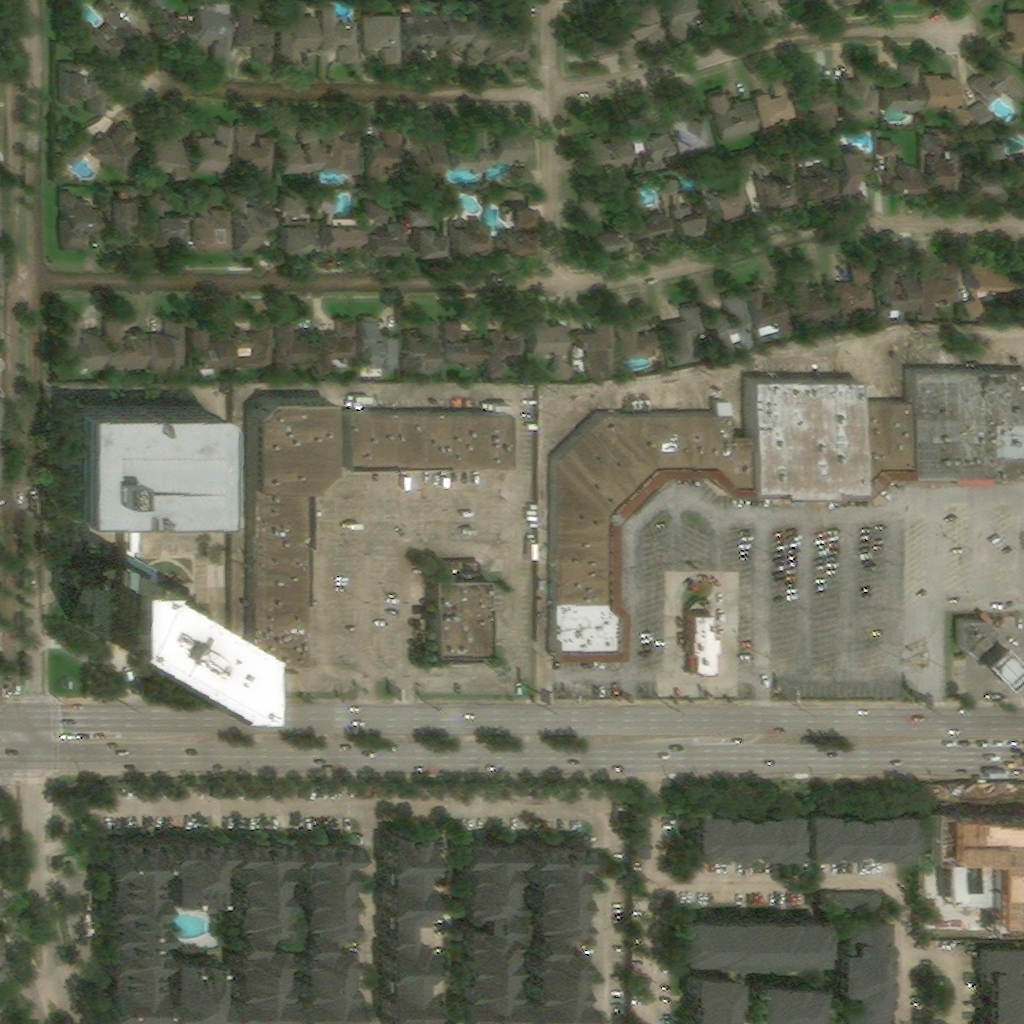minor_damage: (322, 6, 362, 65), (238, 5, 274, 65), (364, 16, 402, 70), (323, 130, 364, 175), (285, 129, 323, 174), (288, 16, 320, 55), (368, 140, 393, 189), (366, 221, 400, 253), (281, 222, 315, 253), (414, 225, 444, 254)
no_damage: (551, 368, 1022, 658), (251, 392, 331, 672), (61, 389, 217, 523), (64, 520, 212, 650), (97, 828, 161, 1018), (523, 829, 587, 1017), (294, 827, 356, 1018), (224, 833, 287, 1018), (456, 833, 518, 1016), (339, 408, 515, 471), (378, 822, 427, 1023), (679, 909, 824, 963), (52, 98, 141, 181), (801, 801, 915, 859), (685, 801, 797, 860), (833, 917, 892, 1023), (429, 562, 491, 653), (166, 830, 225, 906), (163, 949, 223, 1021), (975, 943, 1022, 1023), (971, 57, 1022, 129), (752, 972, 819, 1023), (707, 293, 758, 359), (61, 63, 116, 118), (666, 101, 715, 160), (755, 77, 800, 141), (709, 91, 760, 147), (784, 273, 835, 327), (836, 264, 883, 322), (531, 321, 574, 384), (687, 968, 736, 1023), (923, 76, 971, 131), (192, 2, 235, 63), (86, 2, 135, 54), (576, 319, 617, 380), (668, 304, 707, 368), (318, 321, 359, 381), (618, 314, 666, 365), (60, 192, 97, 257), (881, 256, 919, 319), (194, 124, 236, 180), (922, 133, 963, 189), (64, 319, 105, 375), (495, 128, 533, 187), (193, 196, 234, 250), (404, 321, 445, 375), (884, 60, 923, 115), (957, 616, 1006, 659), (627, 112, 666, 166), (685, 610, 715, 678), (982, 639, 1022, 690), (844, 67, 883, 119), (752, 294, 796, 340), (236, 319, 273, 373), (276, 317, 311, 374), (193, 321, 231, 373), (107, 321, 149, 368), (582, 13, 622, 62), (623, 0, 666, 45), (149, 320, 185, 373), (972, 142, 1011, 190), (924, 276, 963, 324), (237, 208, 276, 255), (451, 128, 489, 176), (802, 83, 842, 128), (588, 128, 627, 172), (490, 28, 532, 67), (143, 140, 185, 176), (837, 150, 870, 194), (406, 17, 445, 49), (888, 156, 922, 192), (156, 11, 191, 45), (799, 167, 834, 201), (239, 127, 271, 164), (110, 195, 141, 233), (591, 221, 629, 251), (447, 339, 485, 369), (662, 0, 696, 33), (970, 260, 1005, 290), (633, 208, 670, 236), (453, 222, 487, 250), (758, 175, 792, 202), (488, 334, 507, 382), (323, 222, 360, 245), (153, 213, 188, 237), (381, 333, 402, 373), (634, 813, 651, 862), (362, 338, 384, 372), (711, 186, 743, 209), (966, 294, 990, 323), (278, 191, 303, 218), (744, 284, 768, 312), (879, 140, 898, 174), (148, 193, 176, 216), (447, 20, 467, 52), (1008, 15, 1022, 58), (421, 141, 446, 165), (506, 230, 535, 249), (468, 28, 484, 61), (511, 203, 534, 225), (585, 200, 605, 225), (750, 0, 772, 22), (364, 199, 386, 221), (674, 209, 699, 228), (320, 196, 342, 217), (793, 0, 838, 10), (842, 0, 898, 8), (386, 127, 406, 149), (446, 322, 468, 341), (405, 205, 426, 224), (516, 6, 534, 28), (409, 126, 426, 149), (788, 148, 807, 167), (663, 178, 681, 198), (111, 0, 135, 15), (944, 264, 963, 282), (742, 157, 760, 175), (447, 200, 466, 217), (362, 321, 381, 338), (703, 175, 714, 188)
